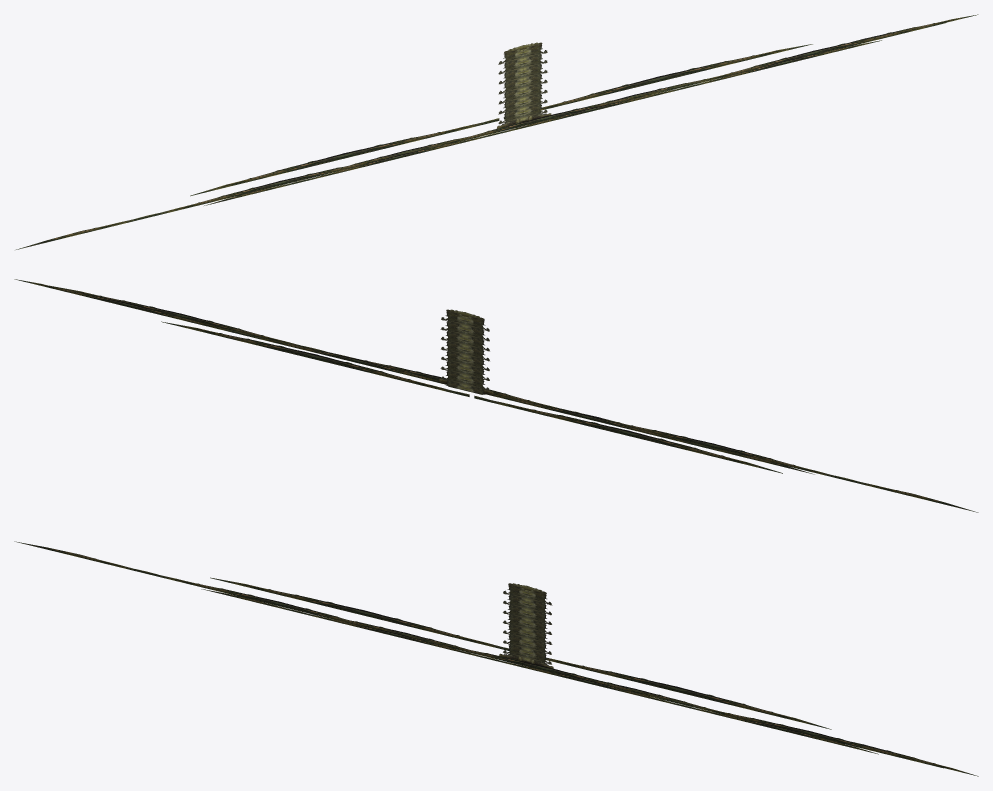
File: Tower_Earth.fbx
3 views of the same model, one above another, from view 1: azimuth 30°, elevation 25°; view 2: azimuth 150°, elevation 25°; view 3: azimuth 330°, elevation 25° (orthographic).
Parts seen in each view (by area): view 1: tower_dark_base, tower_dark, tower_dark_base03, tower_dark_base02; view 2: tower_dark_base, tower_dark, tower_dark_base02; view 3: tower_dark_base, tower_dark, tower_dark_base03, tower_dark_base02.
Boxes of the visible parts, x1,y1,x2,y2 form: tower_dark_base: (16,22,945,249); tower_dark: (498,42,547,124); tower_dark_base03: (204,40,881,205); tower_dark_base02: (351,14,978,165); tower_dark_base: (51,286,978,512); tower_dark: (440,309,489,394); tower_dark_base02: (14,279,814,474); tower_dark_base: (14,541,943,768); tower_dark: (503,583,552,664); tower_dark_base03: (201,589,878,754); tower_dark_base02: (351,620,978,776).
Bounding box in the file's own units: 150 × 11.82 × 2.93.
1 material, 1 textured.
